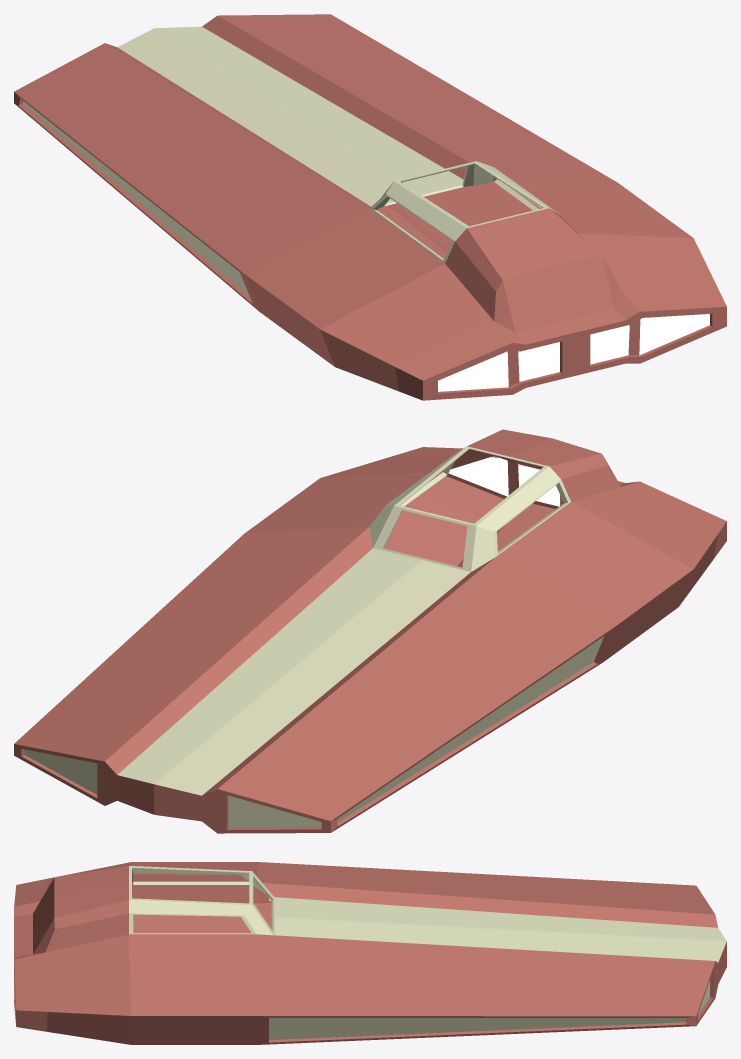
The model's file is spaceshiptestinterior1.glb.
3 renders of one model, top to bottom at view 1: azimuth 30°, elevation 25°; view 2: azimuth 150°, elevation 25°; view 3: azimuth 270°, elevation 25°, orthographic. The views are drawn at different scales.
Parts seen in each view (by area): view 1: Cube; view 2: Cube; view 3: Cube.
Part boxes in pixels (box(x1,y1,x2,y2)): Cube: box(14, 14, 726, 400); Cube: box(14, 429, 726, 833); Cube: box(14, 862, 726, 1044).
Size of the model in its own units: 6.05 by 2.15 by 11.84.
